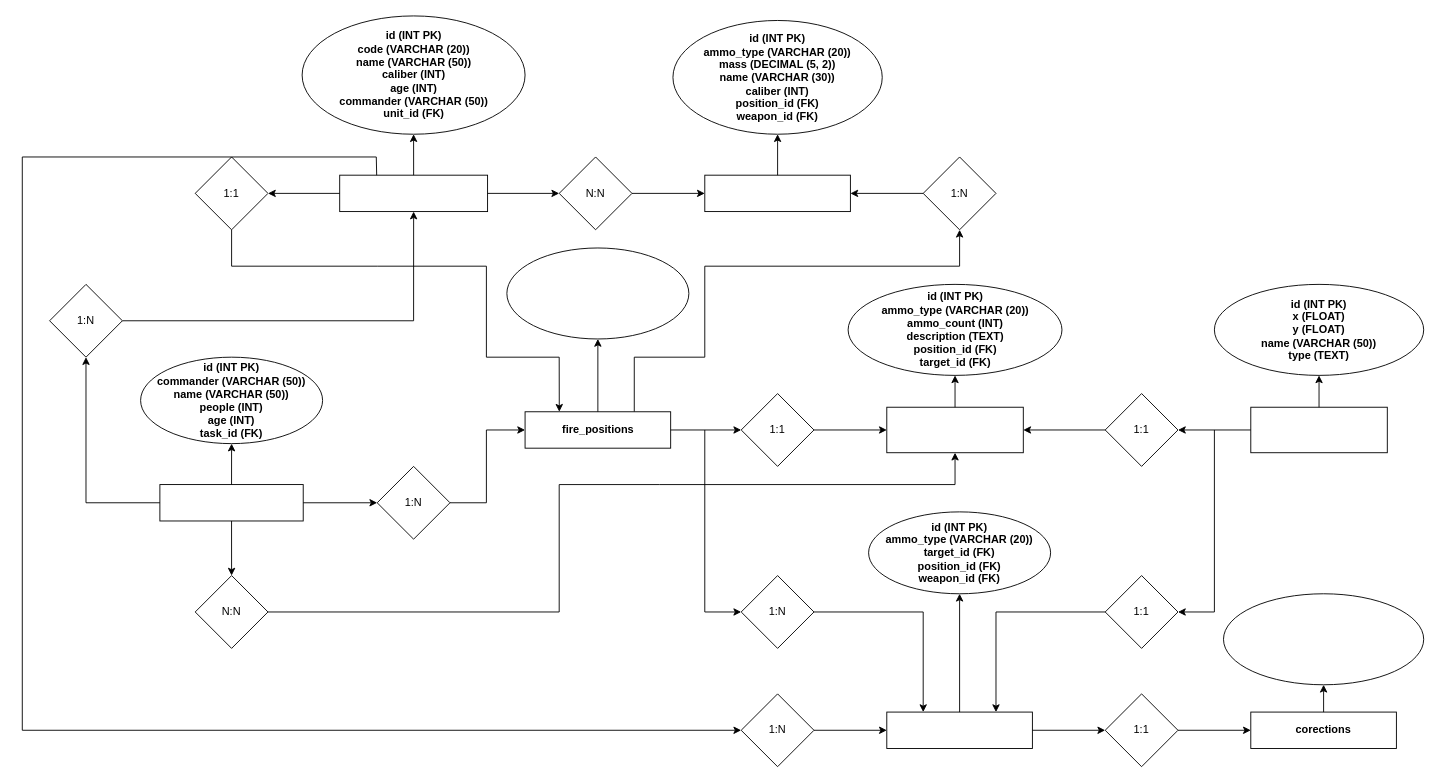
The diagram is 1440 pixels wide and 783 high, and some of its shapes have lost their labels. Here are the shapes that lost their labels. From the top down, the centre of each, then its label:
At pixel 413 193: "weapons".
At pixel 777 193: "ammo".
At pixel 597 293: "id (INT PK) x (FLOAT) y (FLOAT) name (VARCHAR (50)) unit_id (FK) weapon_id (FK)".
At pixel 954 429: "fire_tasks".
At pixel 1318 429: "targets".
At pixel 231 502: "units".
At pixel 1323 639: "id (INT PK) shot_id (FK) closer left further".
At pixel 959 729: "shots".
